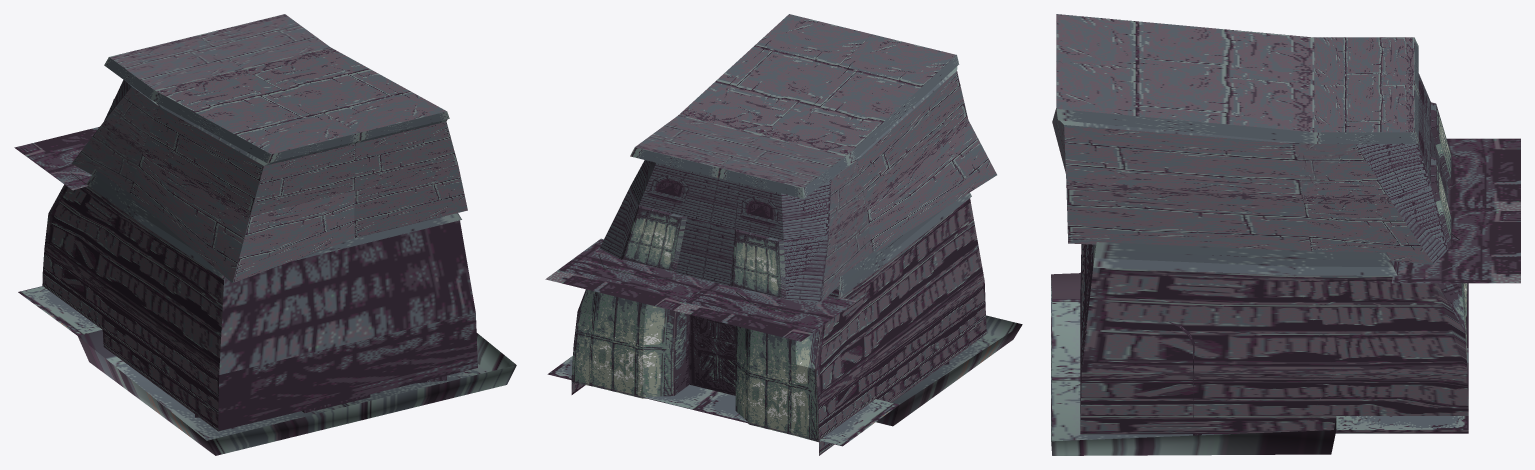
The model's file is map_inside.dae.
3 views of the same model, side by side, from view 1: azimuth 30°, elevation 25°; view 2: azimuth 150°, elevation 25°; view 3: azimuth 270°, elevation 25° (orthographic). The views are drawn at different scales.
Parts seen in each view (by area): view 1: Cube2_copy31-0; view 2: Cube2_copy31-0; view 3: Cube2_copy31-0.
Part boxes in pixels (x1,y1,x2,y2): Cube2_copy31-0: (14, 14, 516, 455); Cube2_copy31-0: (545, 14, 1022, 455); Cube2_copy31-0: (1051, 14, 1520, 455).
Bounding box in the file's own units: 104 × 92.47 × 123.
1 material, 1 textured.
